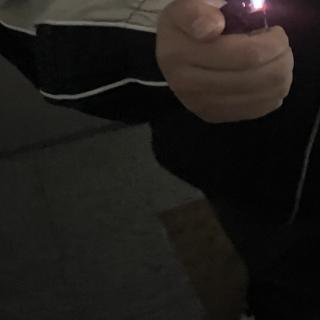fire: (247, 0, 266, 2)
